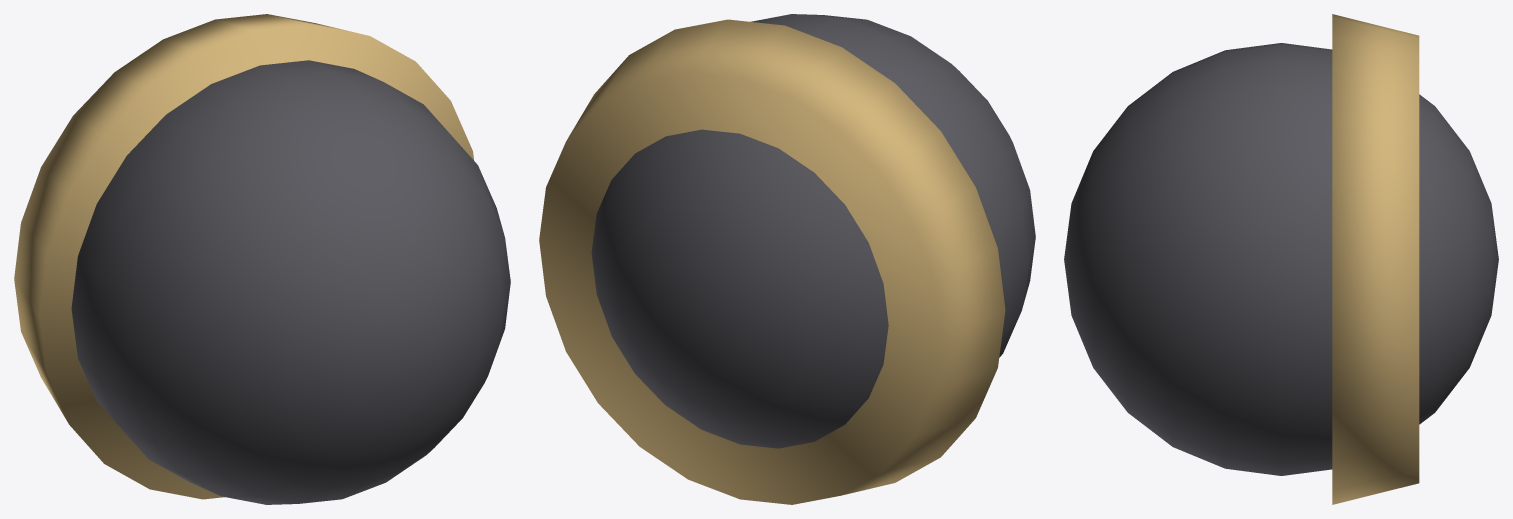
File: caster.obj
3 renders of one model, left to right at view 1: azimuth 30°, elevation 25°; view 2: azimuth 150°, elevation 25°; view 3: azimuth 270°, elevation 25°, orthographic. The views are drawn at different scales.
Parts seen in each view (by area): view 1: caster; view 2: caster; view 3: caster.
Boxes of the visible parts, x1,y1,x2,y2 form: caster: [14, 14, 510, 504]; caster: [539, 14, 1035, 504]; caster: [1064, 14, 1498, 504].
Bounding box in the file's own units: 0.068 × 0.068 × 0.06.
